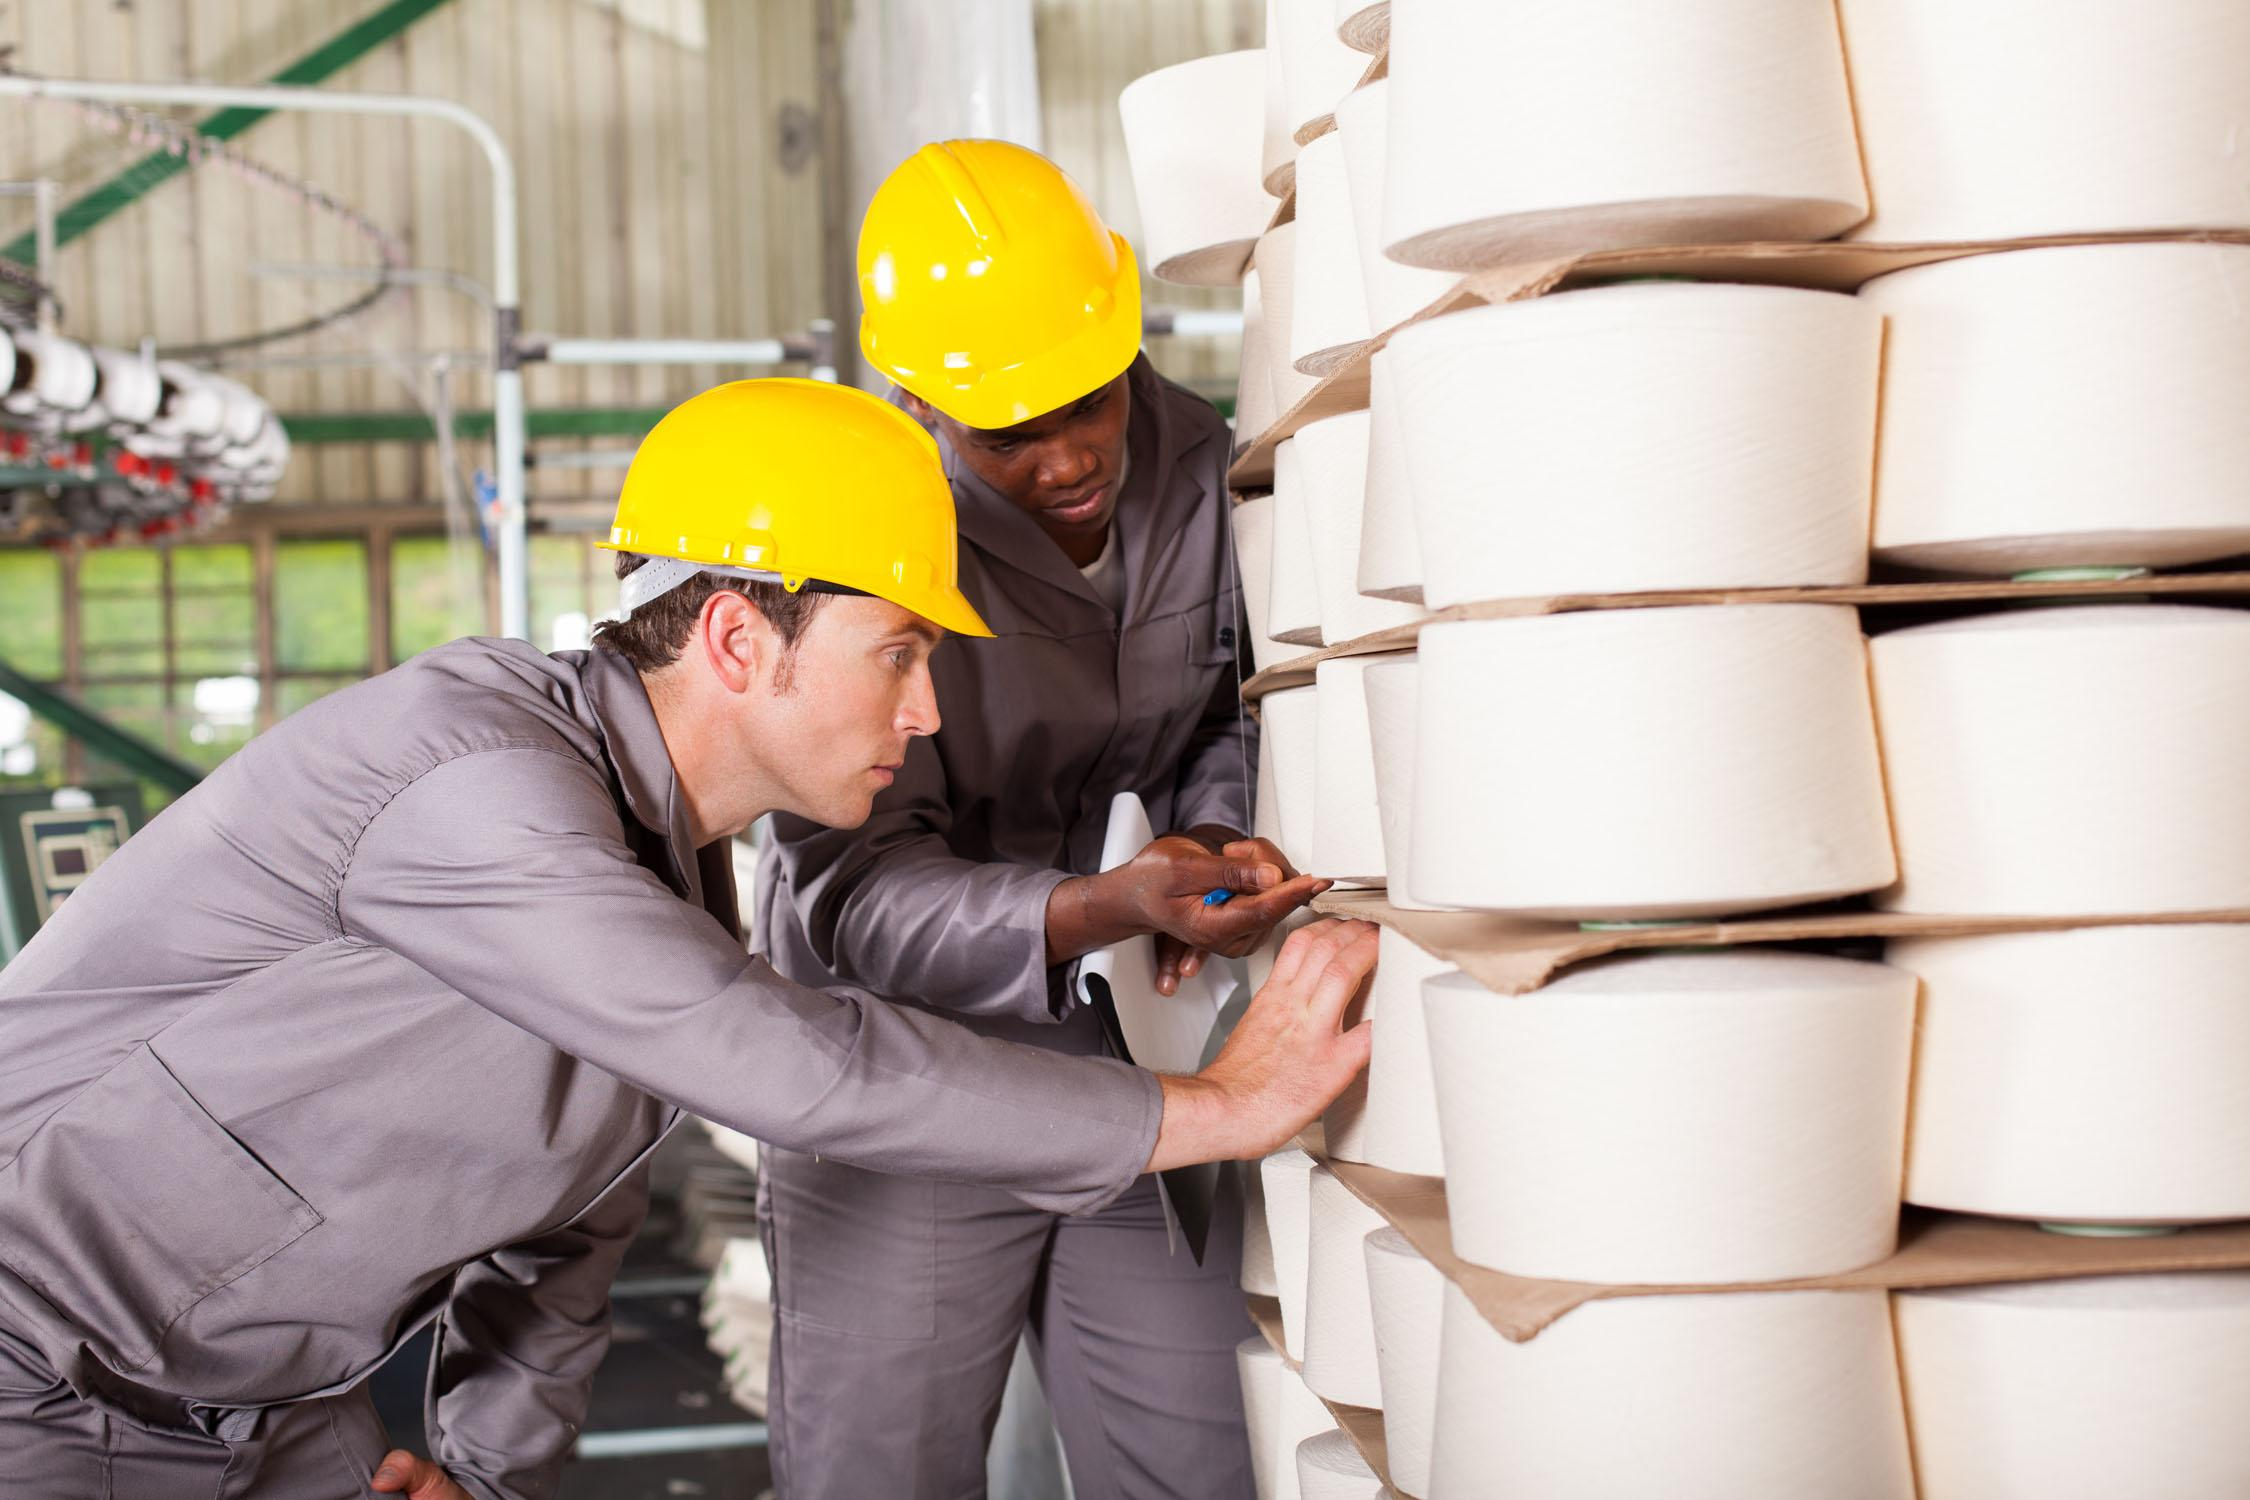helmet: (619, 382, 996, 641), (854, 136, 1137, 403)
